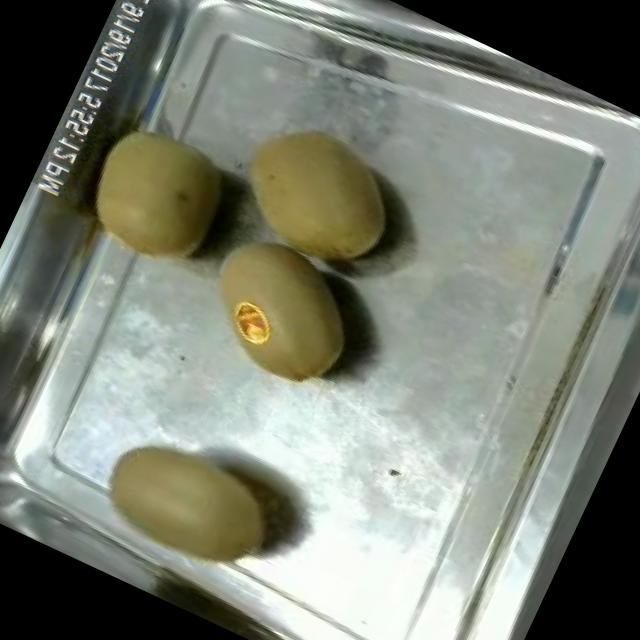Fruit: (73, 408, 300, 606), (208, 94, 428, 294), (181, 214, 384, 400), (62, 101, 252, 289)
